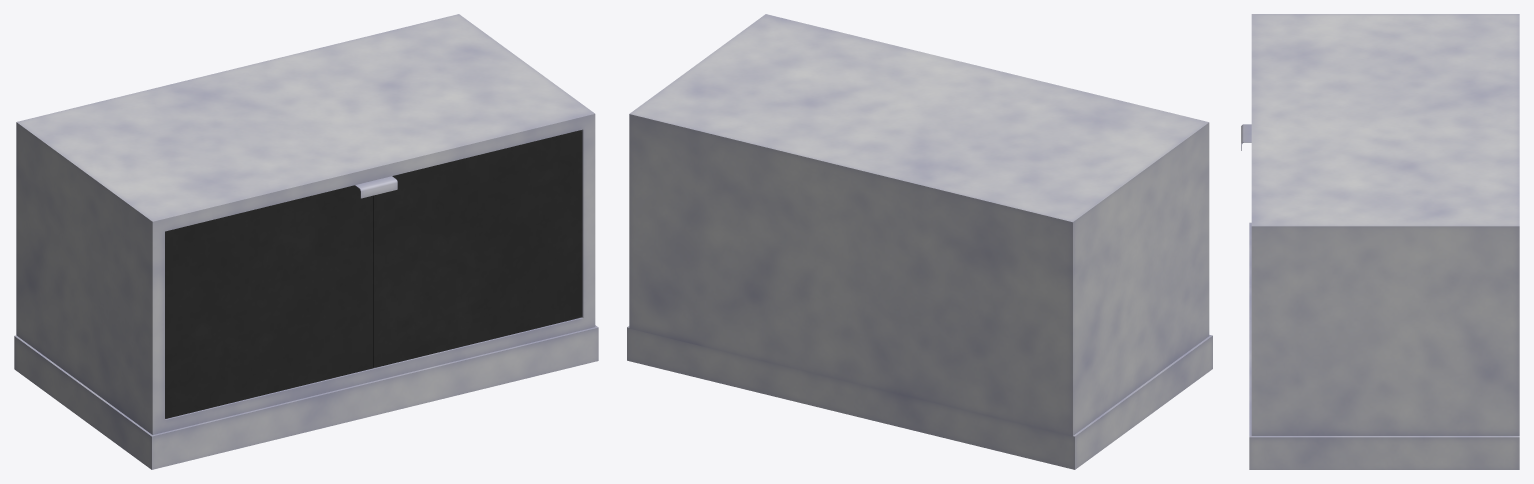
The model's file is LC_3082_Sink_Shelf_LOD1.fbx.
3 renders of one model, left to right at view 1: azimuth 30°, elevation 25°; view 2: azimuth 150°, elevation 25°; view 3: azimuth 270°, elevation 25°, orthographic.
Parts seen in each view (by area): view 1: LC_3082_Sink_Shelf_LOD1; view 2: LC_3082_Sink_Shelf_LOD1; view 3: LC_3082_Sink_Shelf_LOD1.
Part boxes in pixels (left/top/right/bottom): LC_3082_Sink_Shelf_LOD1: left=14, top=14, right=598, bottom=469; LC_3082_Sink_Shelf_LOD1: left=627, top=14, right=1212, bottom=469; LC_3082_Sink_Shelf_LOD1: left=1241, top=14, right=1519, bottom=469.
Bounding box in the file's own units: 151 × 79.87 × 83.15.
Materials: 1 (1 with a texture image).
